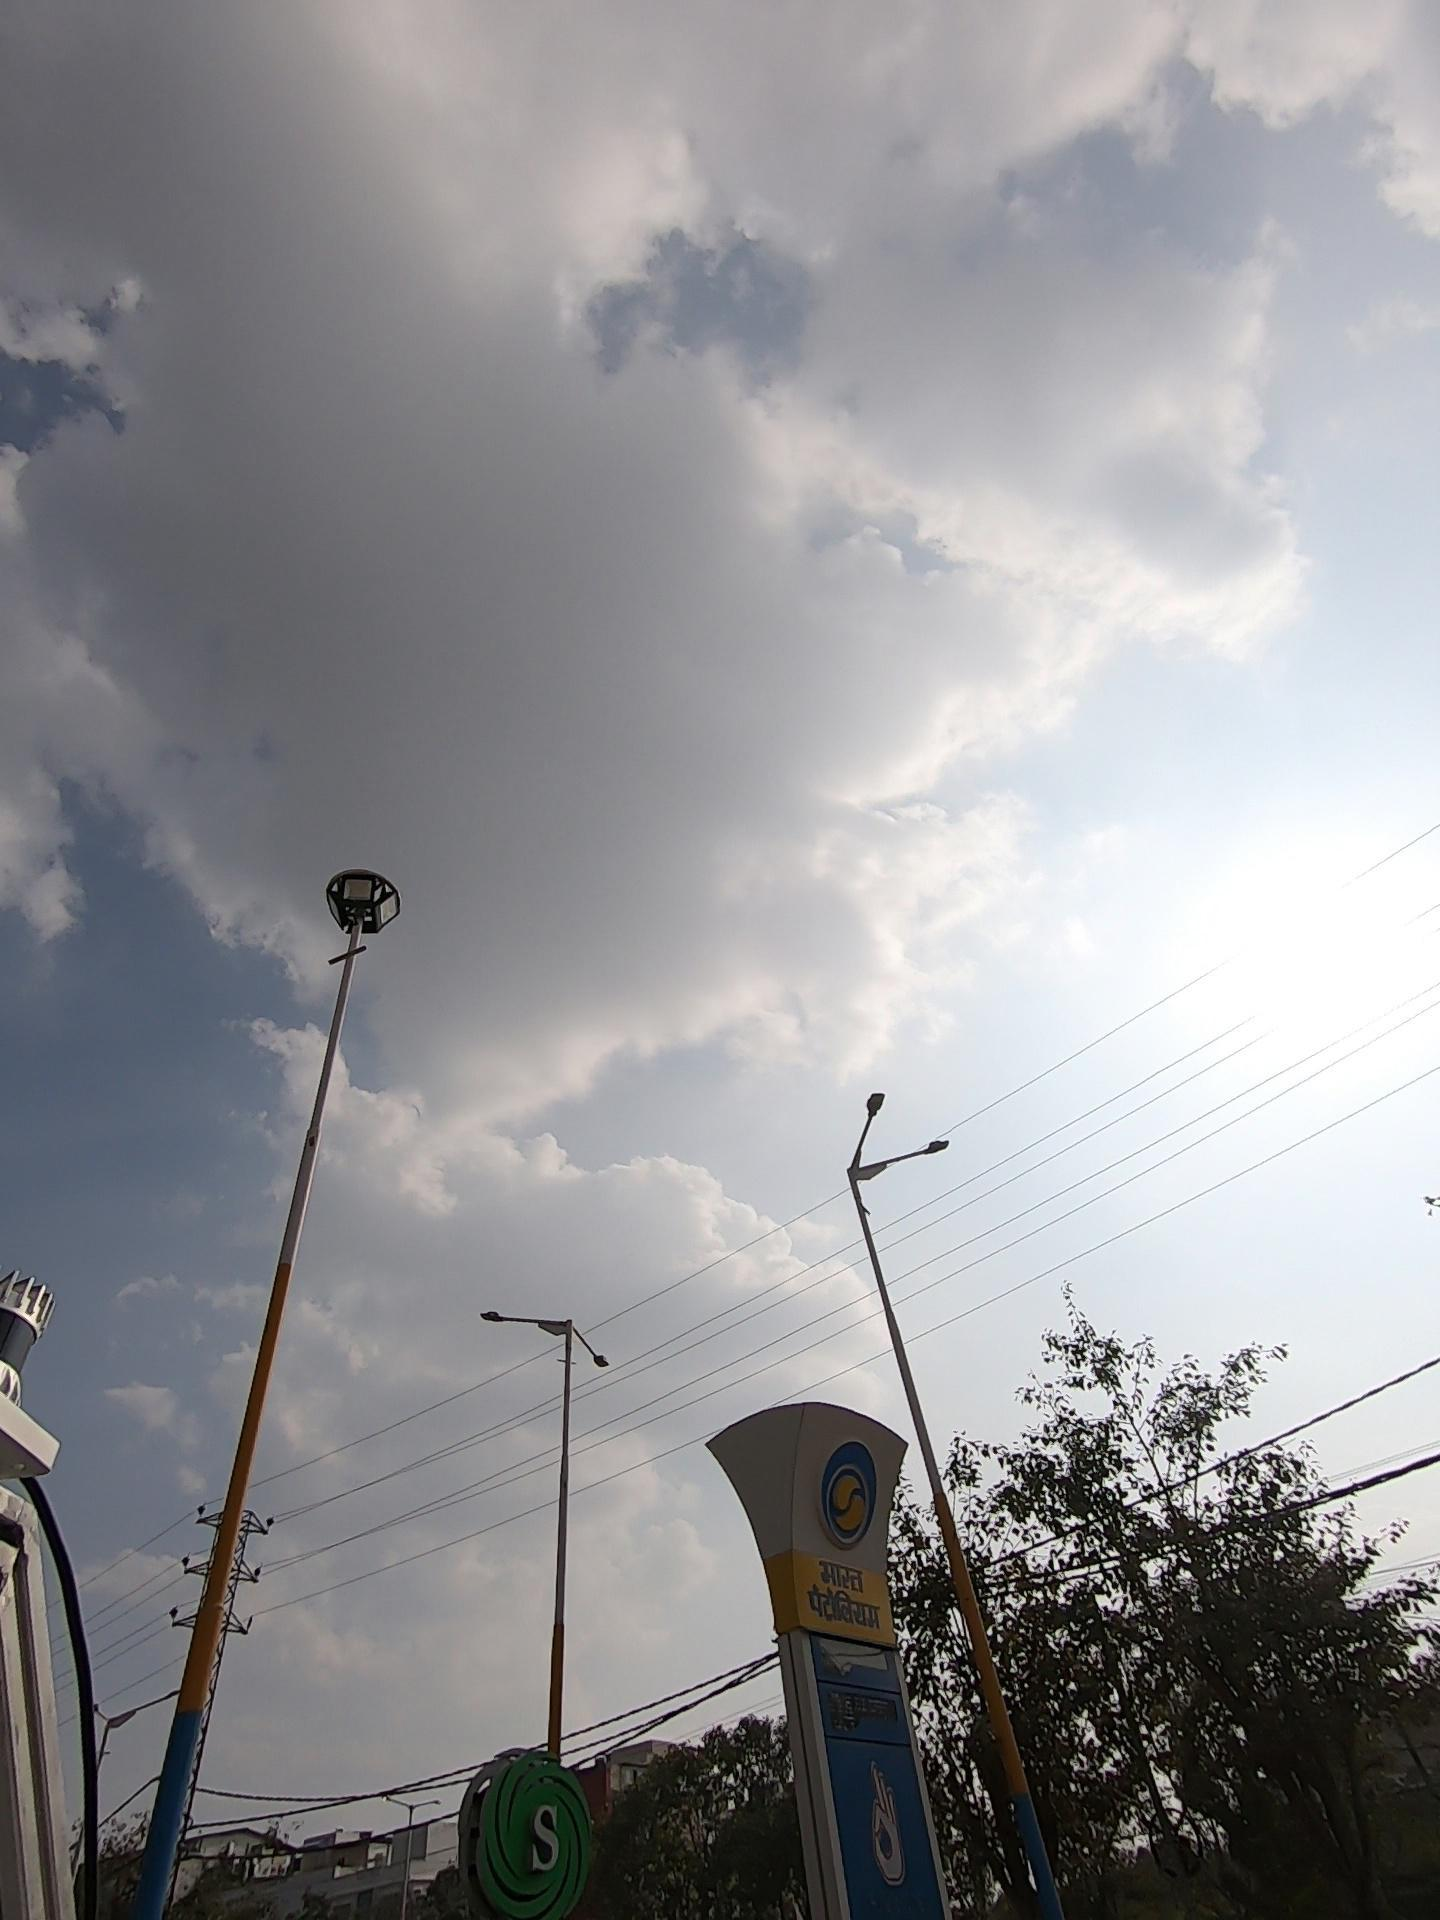off: (765, 1016, 959, 1244), (260, 810, 436, 960), (464, 1291, 655, 1368)
